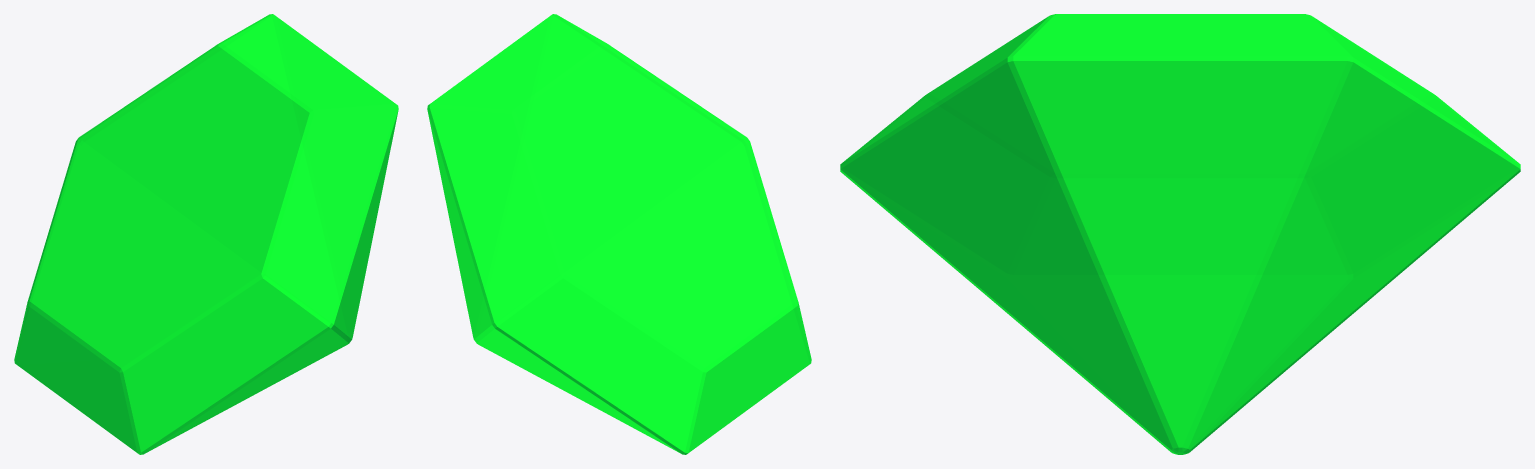
Rendered from smaragd.gltf.
3 renders of one model, left to right at view 1: azimuth 30°, elevation 25°; view 2: azimuth 150°, elevation 25°; view 3: azimuth 270°, elevation 25°, orthographic. The views are drawn at different scales.
Parts seen in each view (by area): view 1: Circle; view 2: Circle; view 3: Circle.
Part boxes in pixels (x1,y1,x2,y2): Circle: [14, 14, 398, 454]; Circle: [427, 14, 811, 454]; Circle: [840, 14, 1520, 454].
Size of the model in its own units: 1.27 by 1.26 by 1.97.
